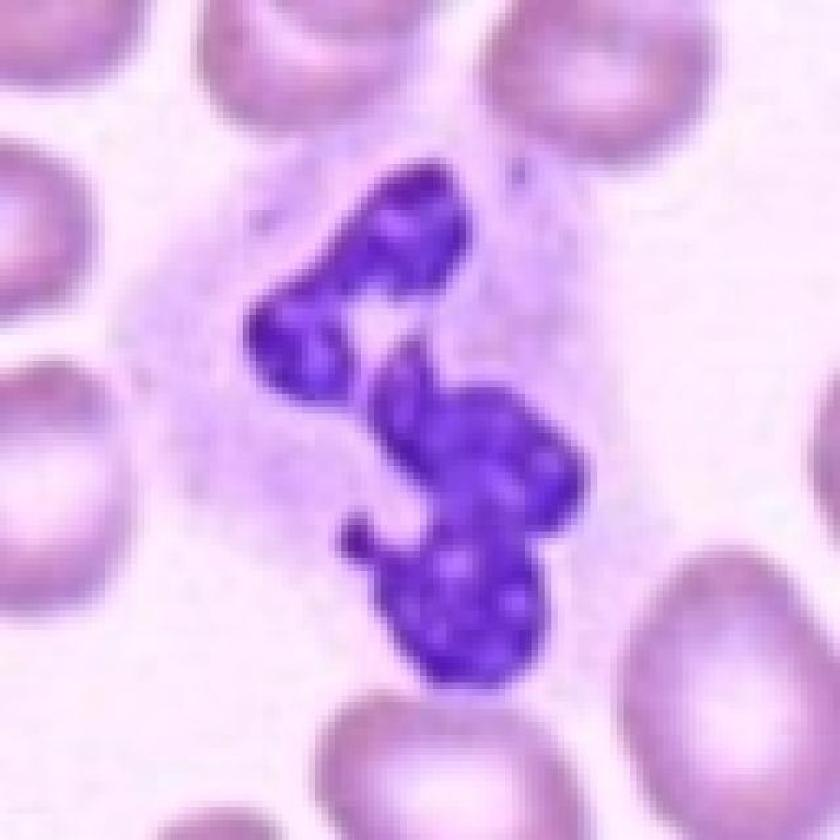neutrophil: (109, 115, 656, 714)
